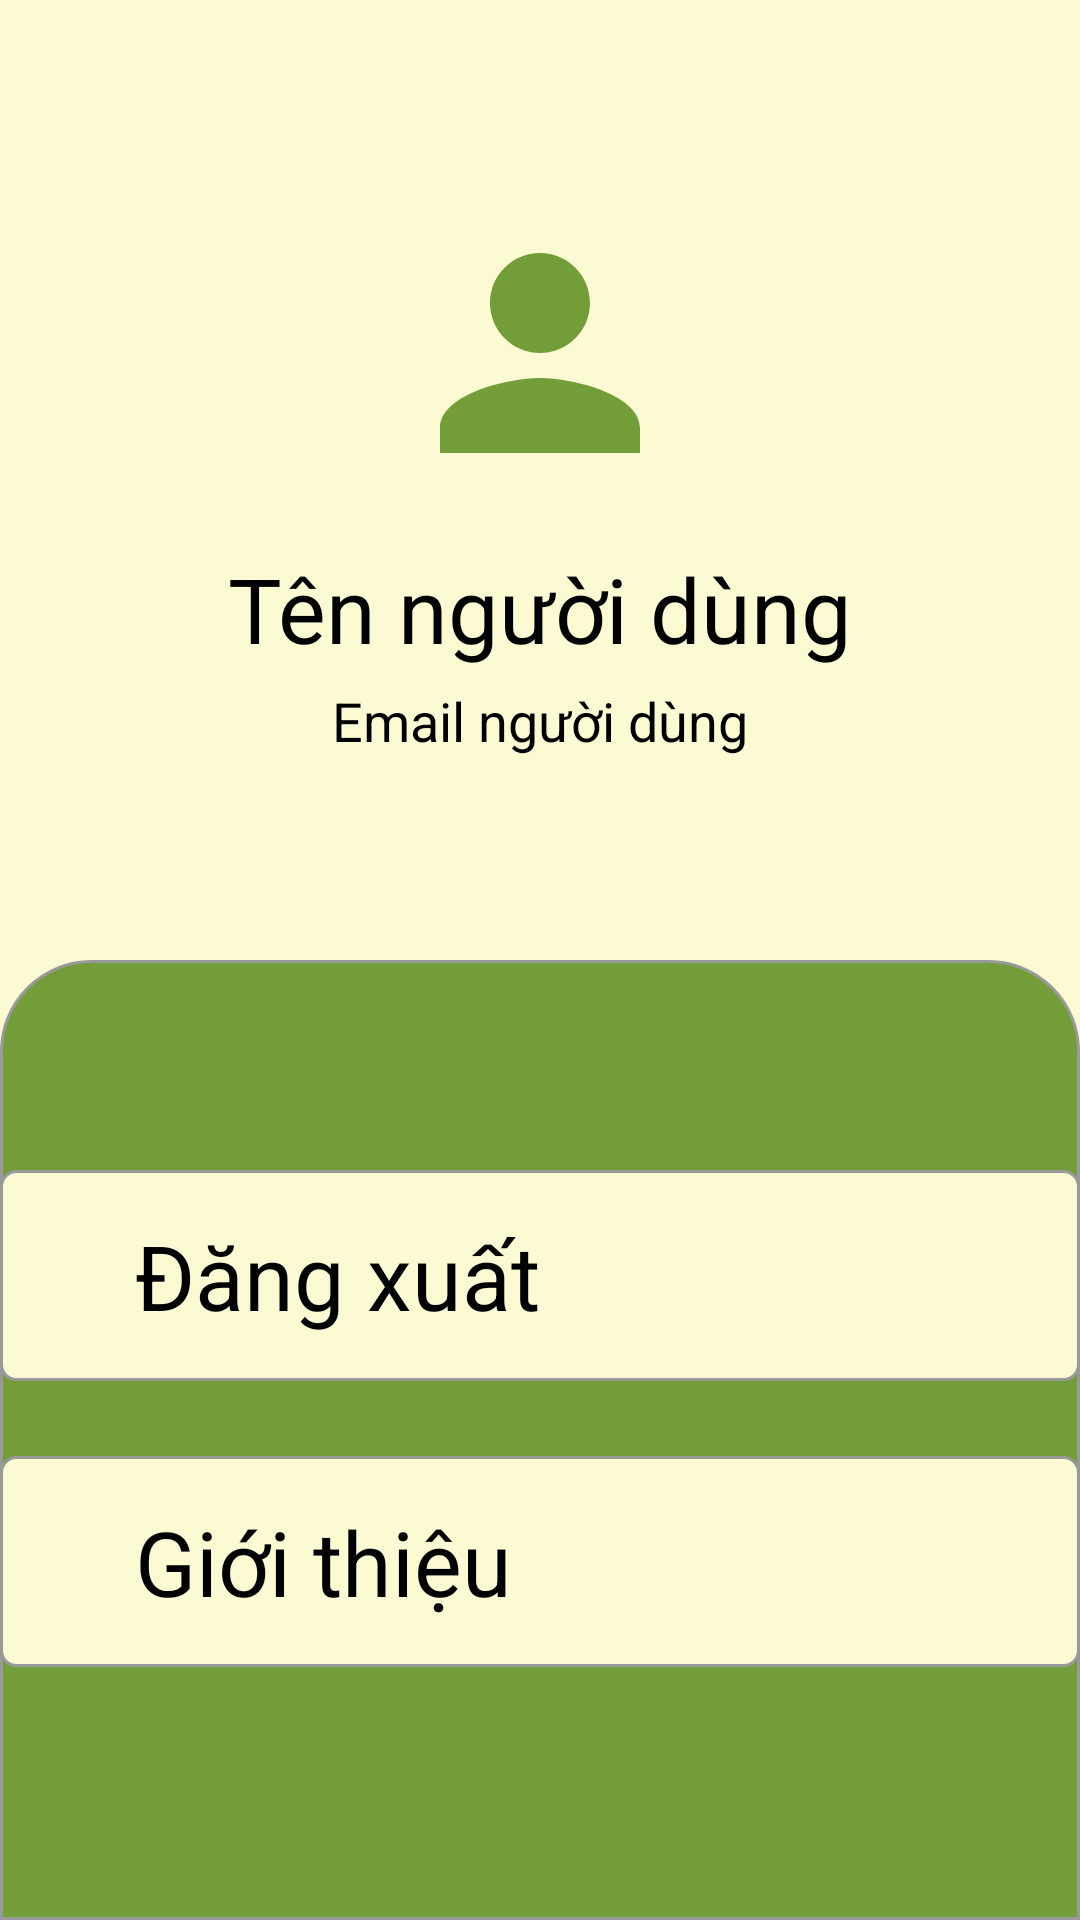

Icon bounding boxes for this 1080px x 1920px phone screenshot, format (x1, y1, x2, y2):
user: (440, 253, 640, 453)
